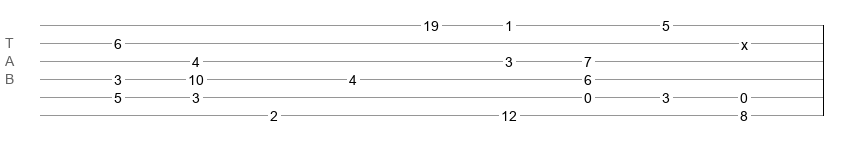0: (584, 90, 592, 100), (740, 90, 748, 100)
1: (505, 18, 513, 28)
10: (188, 72, 204, 82)
12: (501, 108, 517, 118)
19: (423, 18, 439, 28)
2: (270, 108, 278, 118)
3: (114, 72, 122, 82), (192, 90, 200, 100), (505, 54, 513, 64), (662, 90, 670, 100)
4: (192, 54, 200, 64), (349, 72, 357, 82)
5: (114, 90, 122, 100), (662, 18, 670, 28)
6: (114, 36, 122, 46), (584, 72, 592, 82)
7: (584, 54, 592, 64)
8: (740, 108, 748, 118)
x: (741, 37, 748, 45)
